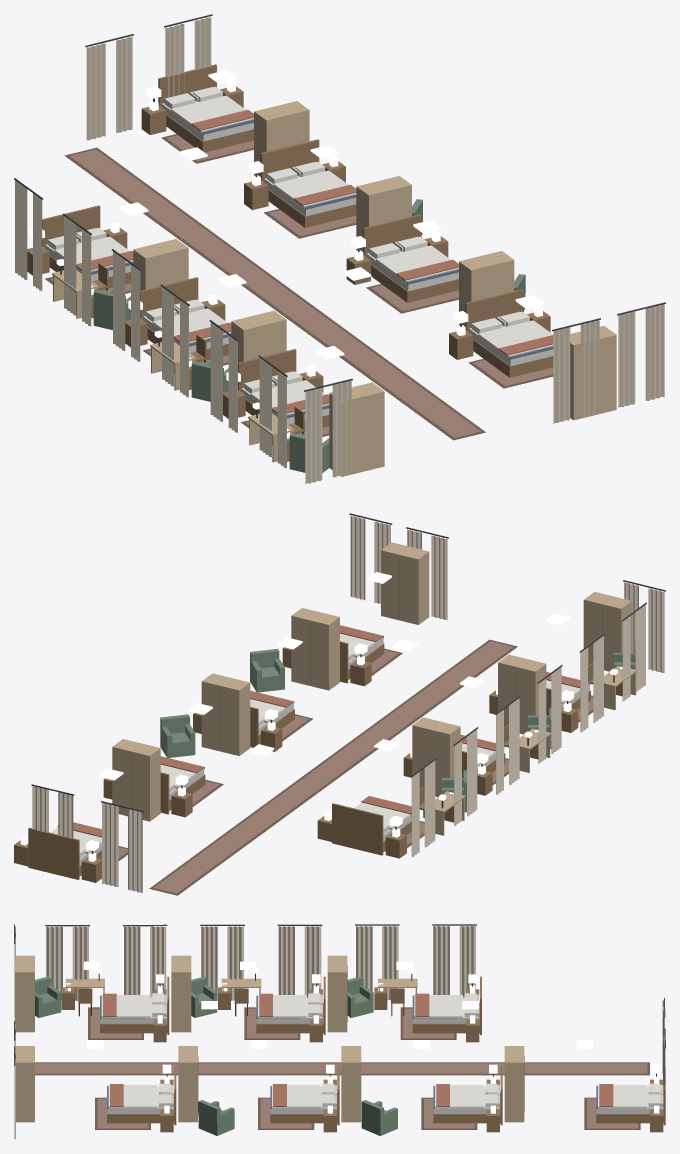
File: fine-s5.glb
3 renders of one model, top to bottom at view 1: azimuth 30°, elevation 25°; view 2: azimuth 150°, elevation 25°; view 3: azimuth 270°, elevation 25°, orthographic. The views are drawn at different scales.
Visible parts, largest first — view 1: soft-s5, dresser.030, dresser.034, bed-frame.032, bed-frame.033, bed-frame.031, bed-frame.034, dresser.032, dresser.031, dresser.033, dresser.028, dresser.029 (+12 smaller); view 2: soft-s5, dresser.032, dresser.033, dresser.034, dresser.031, dresser.030, dresser.029, dresser.028, bed-frame.028, bed-frame.031, lounge-chair.023, lounge-chair.024 (+6 smaller); view 3: soft-s5, dresser.029, dresser.028, dresser.032, dresser.031, dresser.033, dresser.030, dresser.034, bed-frame.030, bed-frame.034, bed-frame.029, bed-frame.033 (+18 smaller).
Boxes of the visible parts, bbox=[...] form: soft-s5: bbox=[14, 14, 665, 484]; dresser.030: bbox=[329, 382, 384, 476]; dresser.034: bbox=[570, 326, 616, 420]; bed-frame.032: bbox=[260, 139, 356, 227]; bed-frame.033: bbox=[363, 214, 458, 302]; bed-frame.031: bbox=[158, 64, 253, 152]; bed-frame.034: bbox=[465, 289, 553, 377]; dresser.032: bbox=[356, 176, 411, 251]; dresser.031: bbox=[254, 101, 309, 176]; dresser.033: bbox=[459, 251, 514, 326]; dresser.028: bbox=[133, 239, 188, 290]; dresser.029: bbox=[231, 310, 286, 362]; soft-s5: bbox=[31, 513, 665, 895]; dresser.032: bbox=[201, 673, 250, 755]; dresser.033: bbox=[291, 608, 339, 690]; dresser.034: bbox=[381, 542, 429, 624]; dresser.031: bbox=[112, 739, 160, 821]; dresser.030: bbox=[583, 592, 632, 671]; dresser.029: bbox=[498, 654, 546, 734]; dresser.028: bbox=[412, 717, 460, 797]; bed-frame.028: bbox=[332, 803, 411, 855]; bed-frame.031: bbox=[28, 827, 101, 879]; lounge-chair.023: bbox=[160, 714, 195, 757]; lounge-chair.024: bbox=[250, 648, 284, 692]; soft-s5: bbox=[14, 924, 665, 1139]; dresser.029: bbox=[171, 955, 191, 1032]; dresser.028: bbox=[327, 955, 347, 1032]; dresser.032: bbox=[341, 1046, 361, 1122]; dresser.031: bbox=[504, 1046, 524, 1122]; dresser.033: bbox=[178, 1046, 198, 1122]; dresser.030: bbox=[15, 955, 34, 1032]; dresser.034: bbox=[16, 1046, 34, 1122]; bed-frame.030: bbox=[100, 976, 169, 1034]; bed-frame.034: bbox=[107, 1067, 176, 1125]; bed-frame.029: bbox=[256, 976, 325, 1034]; bed-frame.033: bbox=[270, 1067, 339, 1125].
Bounding box in the file's own units: 10.08 × 2.56 × 19.75.
